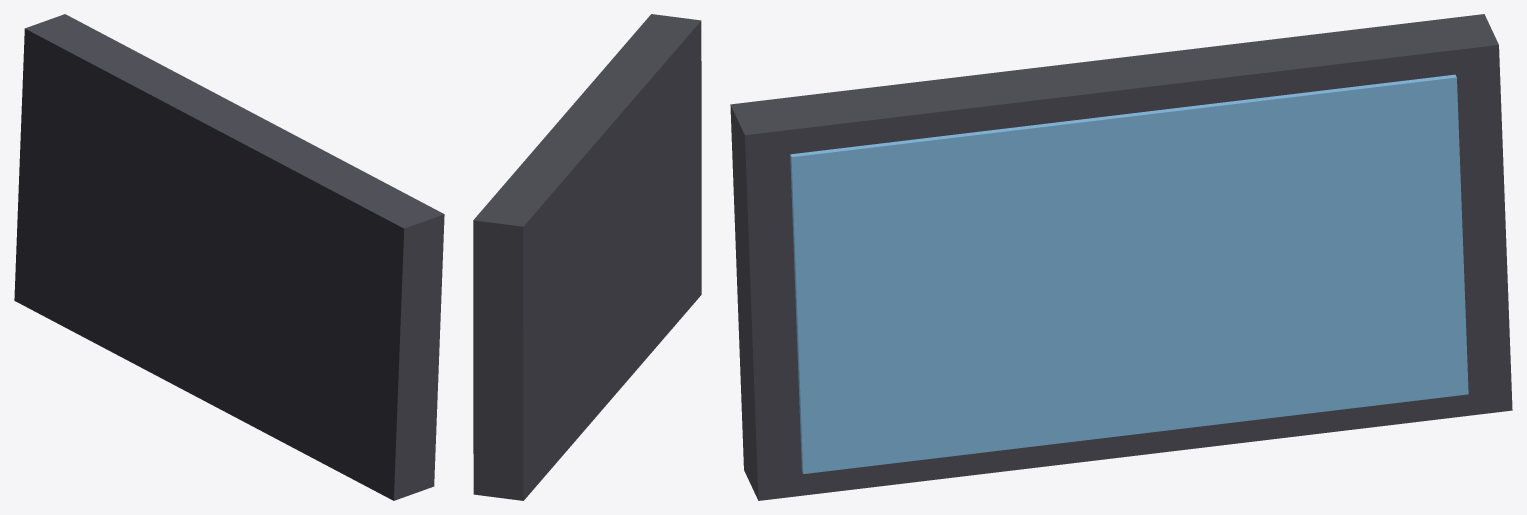
The model's file is Phone.glb.
The picture shows the model from 3 angles, left to right: view 1: azimuth 30°, elevation 25°; view 2: azimuth 150°, elevation 25°; view 3: azimuth 270°, elevation 25°; orthographic projection. The views are drawn at different scales.
Parts seen in each view (by area): view 1: Phone_Body; view 2: Phone_Body; view 3: Phone_Screen, Phone_Body.
Part boxes in pixels (box(x1,y1,x2,y2)): Phone_Body: box(14, 14, 444, 500); Phone_Body: box(473, 14, 701, 500); Phone_Screen: box(790, 74, 1468, 473); Phone_Body: box(730, 14, 1512, 500).
Bounding box in the file's own units: 0.0514 × 0.0964 × 0.1727.
